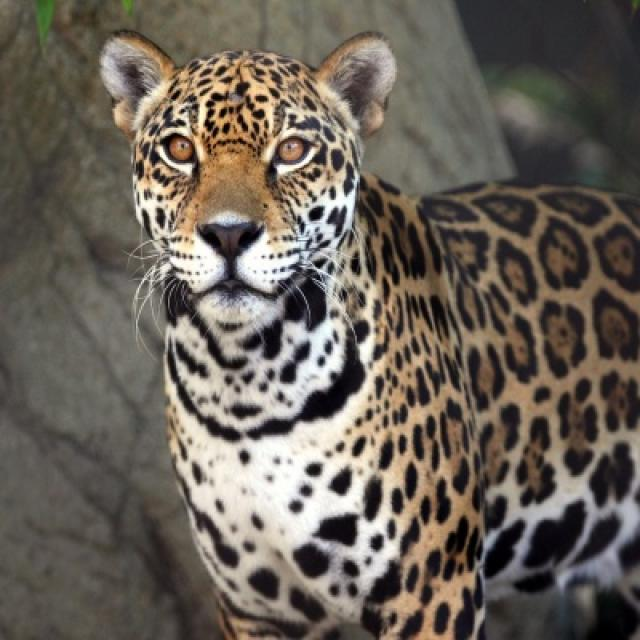Jaguar: (82, 9, 638, 638)
